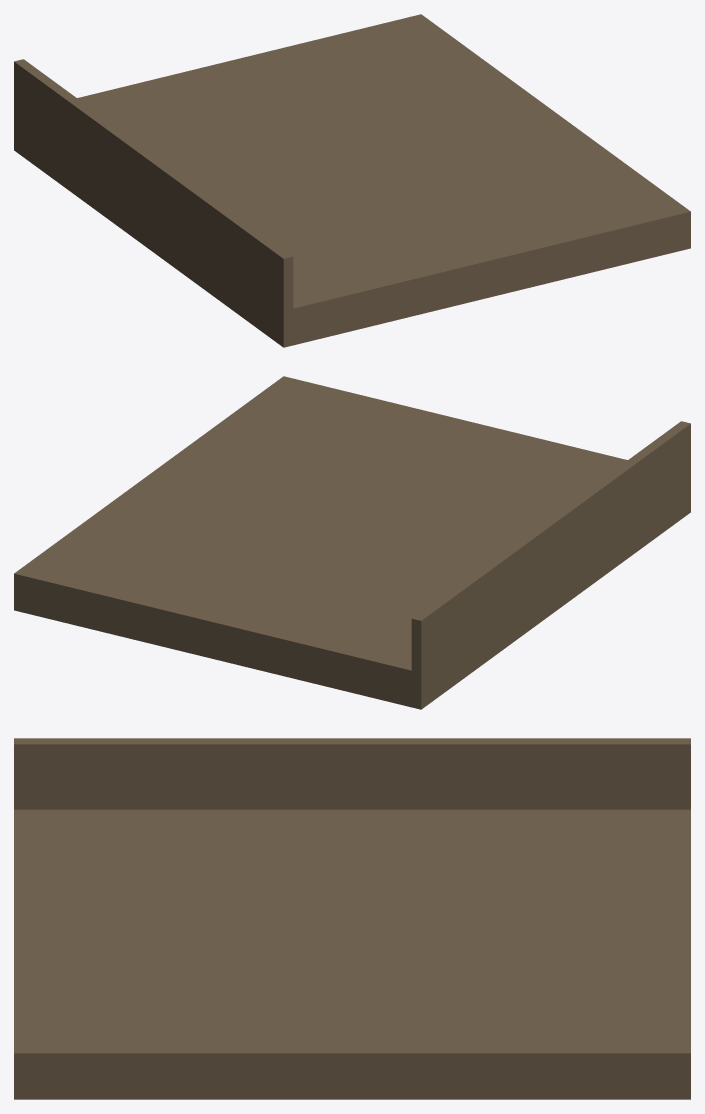
File: Itr_Bed_Bunk2_Sidebed_03.FBX
The picture shows the model from 3 angles, top to bottom: view 1: azimuth 30°, elevation 25°; view 2: azimuth 150°, elevation 25°; view 3: azimuth 270°, elevation 25°; orthographic projection. The views are drawn at different scales.
Parts seen in each view (by area): view 1: Itr_Bed_Bunk2_Sidebed_03; view 2: Itr_Bed_Bunk2_Sidebed_03; view 3: Itr_Bed_Bunk2_Sidebed_03.
Boxes of the visible parts, x1,y1,x2,y2 form: Itr_Bed_Bunk2_Sidebed_03: [14, 14, 690, 347]; Itr_Bed_Bunk2_Sidebed_03: [14, 376, 690, 709]; Itr_Bed_Bunk2_Sidebed_03: [14, 738, 690, 1099].
Bounding box in the file's own units: 77.24 × 16.11 × 88.6.
